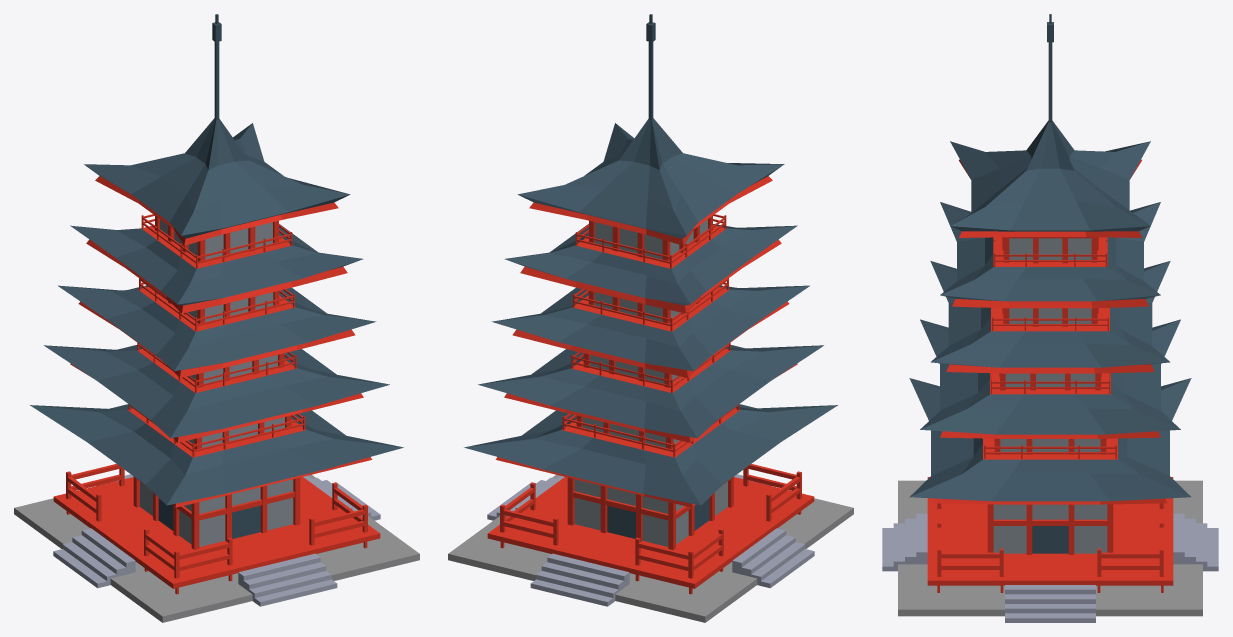
File: dibiao_ta.fbx
The picture shows the model from 3 angles, left to right: view 1: azimuth 30°, elevation 25°; view 2: azimuth 150°, elevation 25°; view 3: azimuth 270°, elevation 25°; orthographic projection. The views are drawn at different scales.
Visible parts, largest first — view 1: dibiao_ta; view 2: dibiao_ta; view 3: dibiao_ta.
Boxes of the visible parts, bbox=[...] form: dibiao_ta: bbox=[14, 14, 419, 622]; dibiao_ta: bbox=[448, 14, 853, 622]; dibiao_ta: bbox=[882, 14, 1218, 622].
Bounding box in the file's own units: 1854 × 1854 × 3271.
